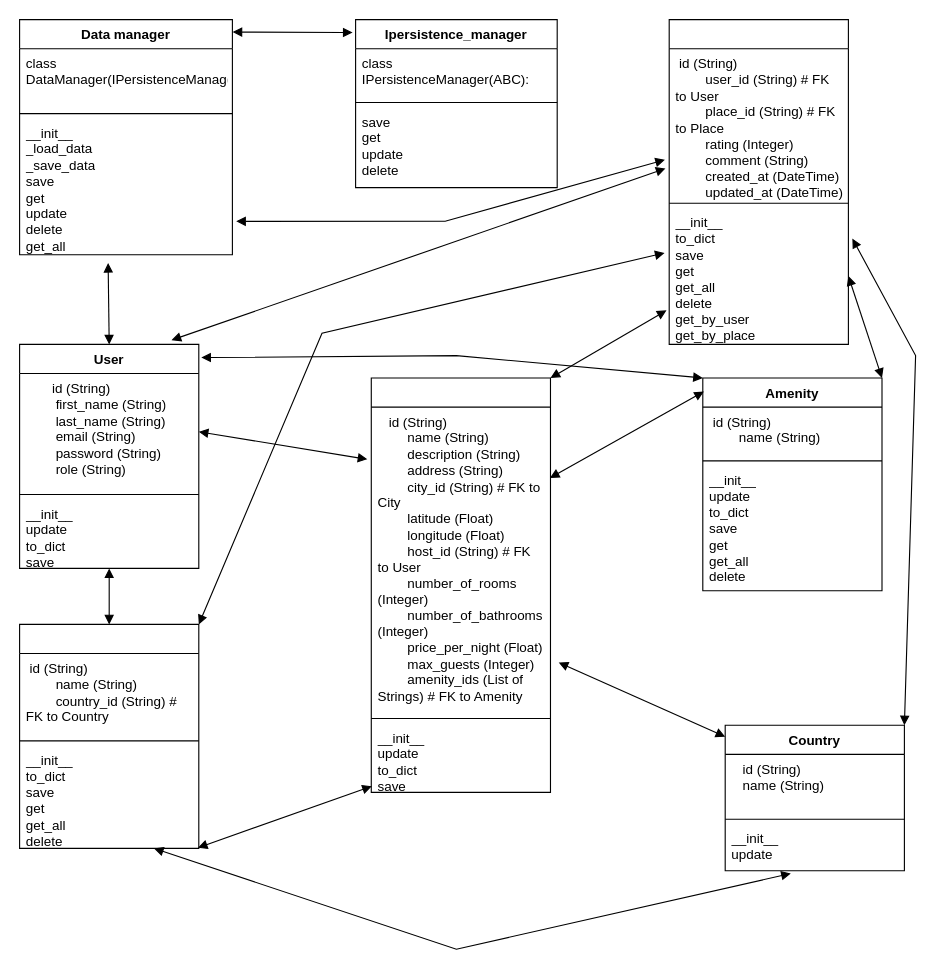
This 945x979 diagram has some shape labels left out. Each missing label, with the box of its shape:
City: (18, 623, 199, 848)
Place: (370, 377, 550, 792)
review: (668, 18, 848, 344)
